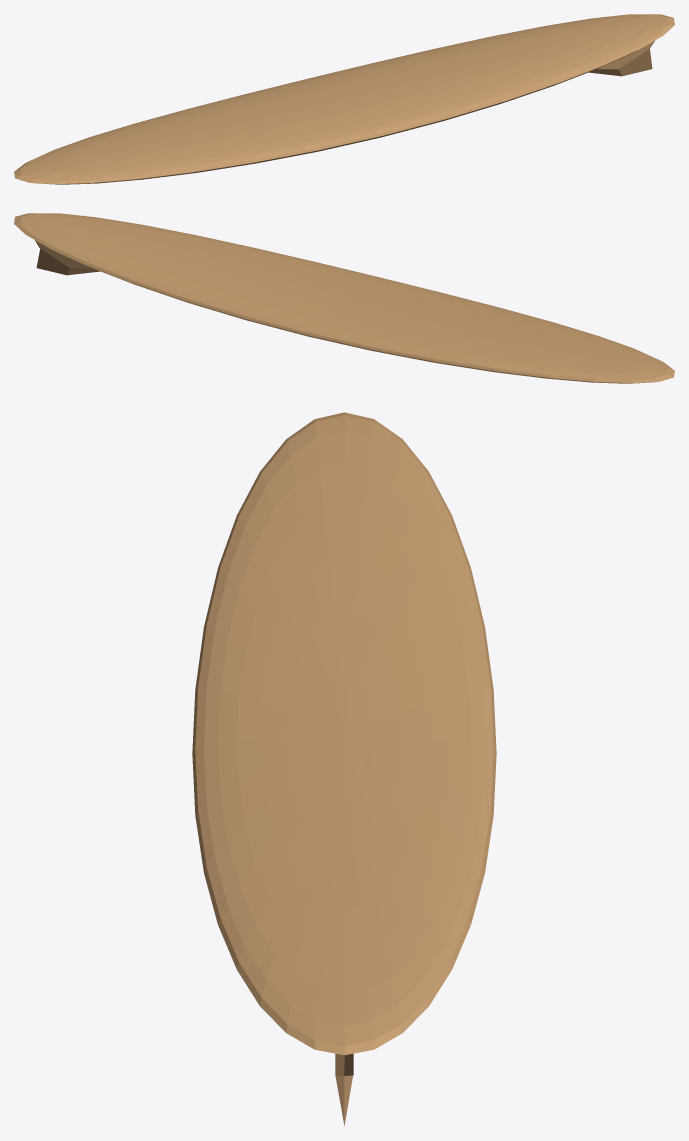
The model's file is board.gltf.
The picture shows the model from 3 angles, top to bottom: view 1: azimuth 30°, elevation 25°; view 2: azimuth 150°, elevation 25°; view 3: azimuth 270°, elevation 25°; orthographic projection. The views are drawn at different scales.
Parts seen in each view (by area): view 1: Surfboard; view 2: Surfboard; view 3: Surfboard.
Boxes of the visible parts, bbox=[...] form: Surfboard: bbox=[14, 14, 674, 184]; Surfboard: bbox=[14, 213, 674, 383]; Surfboard: bbox=[192, 412, 496, 1126].
Size of the model in its own units: 120 by 8.52 by 24.
1 material, 1 textured.
